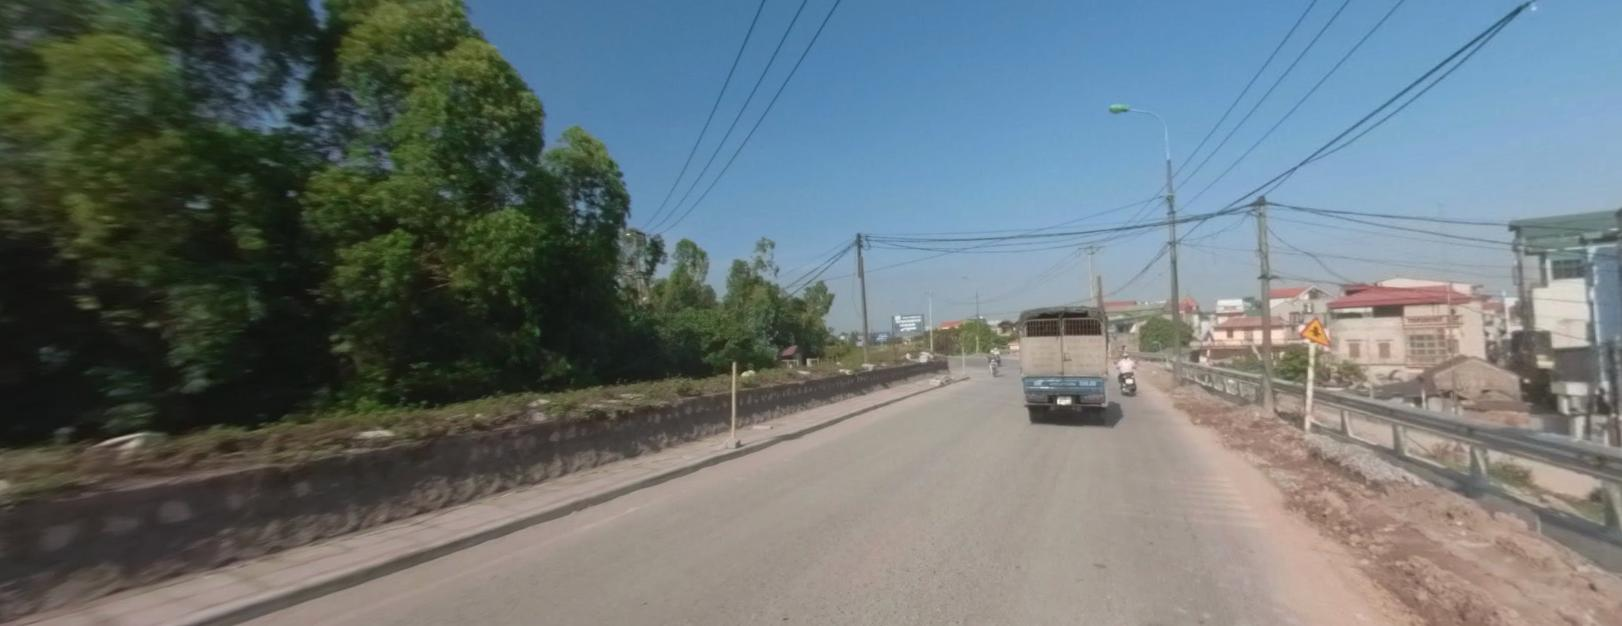Nguy hiem: (1300, 315, 1329, 345)
